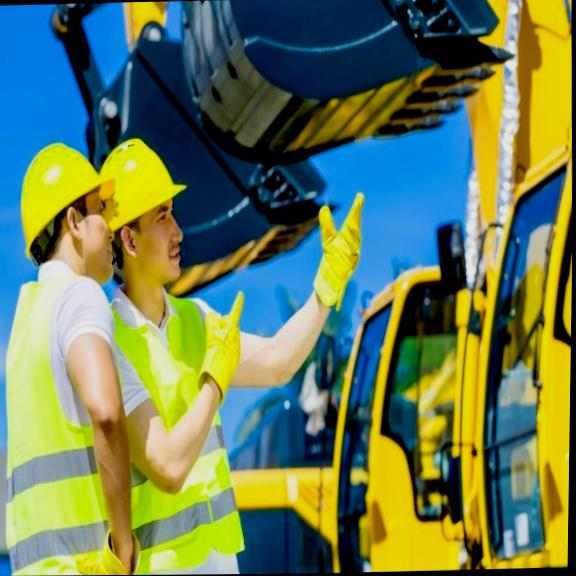safety_vest: (1, 253, 113, 576), (115, 270, 235, 562)
